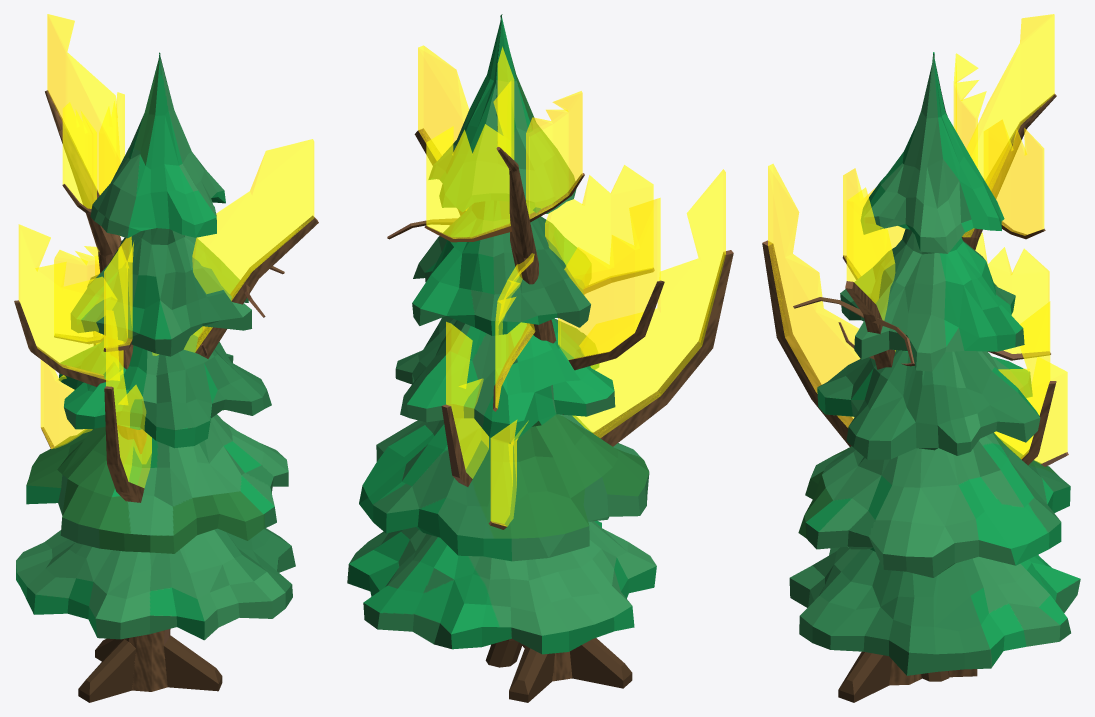
Rendered from tree.glb.
The picture shows the model from 3 angles, left to right: view 1: azimuth 30°, elevation 25°; view 2: azimuth 150°, elevation 25°; view 3: azimuth 270°, elevation 25°; orthographic projection. The views are drawn at different scales.
Parts seen in each view (by area): view 1: greenTree, fire, burntTree; view 2: greenTree, fire, burntTree; view 3: greenTree, fire, burntTree.
Part boxes in pixels (x1,y1,x2,y2): greenTree: (16,52,295,640); fire: (18,14,314,487); burntTree: (14,90,318,702); greenTree: (347,14,656,667); fire: (418,45,725,526); burntTree: (387,128,733,702); greenTree: (789,52,1080,681); fire: (768,14,1067,463); burntTree: (762,93,1068,702).
Bounding box in the file's own units: 0.079 × 0.1729 × 0.0768.
3 materials, 2 textured.
